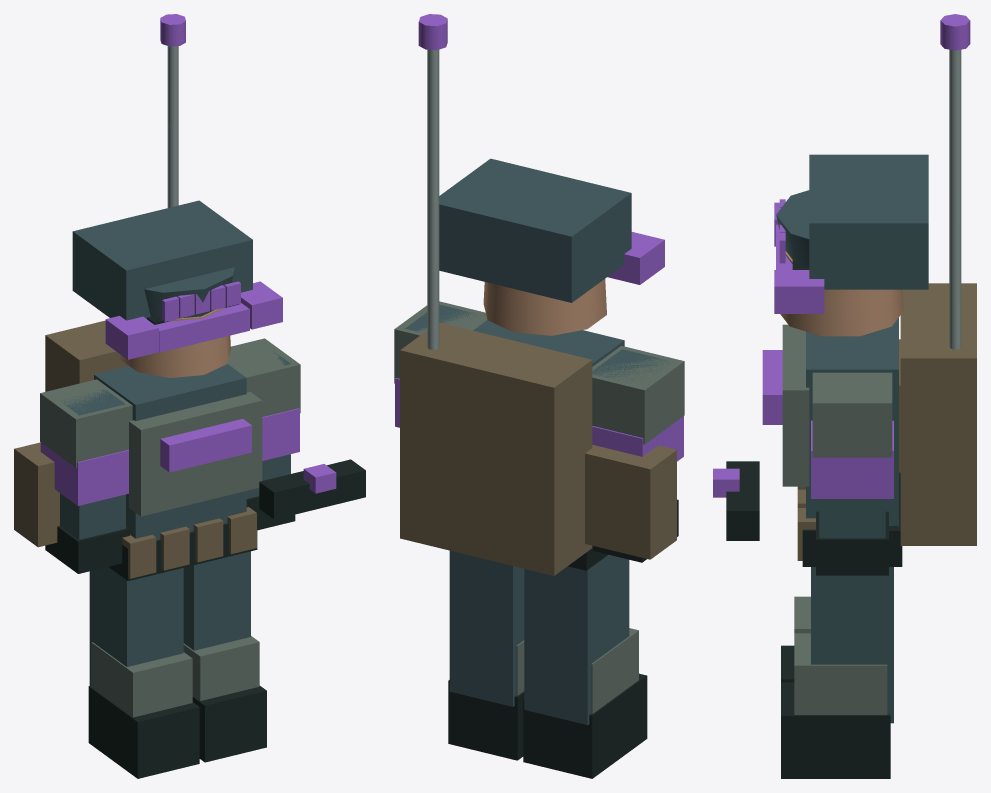
Rendered from recon_l05.glb.
3 renders of one model, left to right at view 1: azimuth 30°, elevation 25°; view 2: azimuth 150°, elevation 25°; view 3: azimuth 270°, elevation 25°, orthographic. The views are drawn at different scales.
Parts seen in each view (by area): view 1: trouser (×2), hood, boot (×2), vest, shoulder_plate (×2), knee_plate (×2), body, rank_stripe (×2), map_satchel, sleeve (×2), field_pack, scanner (+14 smaller); view 2: field_pack, trouser (×2), hood, boot (×2), map_satchel, shoulder_plate (×2), face, signal_mast, knee_plate, body, sleeve (×2), rank_stripe (+2 smaller); view 3: field_pack, hood, boot (×2), trouser, shoulder_plate, knee_plate (×2), body, vest, face, signal_mast, rank_stripe, glove (+9 smaller).
Boxes of the visible parts, x1,y1,x2,y2 form: trouser (×2): (89, 551, 250, 685); hood: (72, 200, 252, 320); boot (×2): (88, 685, 266, 778); vest: (129, 392, 262, 516); shoulder_plate (×2): (40, 338, 300, 467); knee_plate (×2): (91, 636, 259, 717); body: (94, 364, 246, 540); rank_stripe (×2): (40, 408, 299, 505); map_satchel: (14, 442, 59, 547); sleeve (×2): (60, 352, 290, 539); field_pack: (45, 320, 128, 391); scanner: (259, 459, 365, 519); field_pack: (400, 322, 592, 575); trouser (×2): (449, 550, 629, 725); hood: (439, 158, 631, 302); boot (×2): (448, 673, 647, 778); map_satchel: (585, 444, 676, 559); shoulder_plate (×2): (394, 301, 684, 444); face: (483, 279, 606, 335); signal_mast: (427, 49, 439, 349); knee_plate: (591, 628, 638, 713); body: (473, 320, 624, 366); sleeve (×2): (405, 304, 669, 382); rank_stripe: (592, 416, 683, 461); field_pack: (900, 283, 976, 545); hood: (809, 154, 928, 289); boot (×2): (781, 645, 890, 778); trouser: (811, 567, 893, 723); shoulder_plate: (812, 372, 892, 457); knee_plate (×2): (794, 596, 887, 714); body: (806, 318, 898, 525); vest: (782, 324, 809, 486); face: (780, 251, 903, 336); signal_mast: (949, 49, 961, 349); rank_stripe: (811, 420, 893, 498); glove: (816, 511, 888, 575).
Size of the model in its own units: 1.03 by 2.49 by 0.795.
